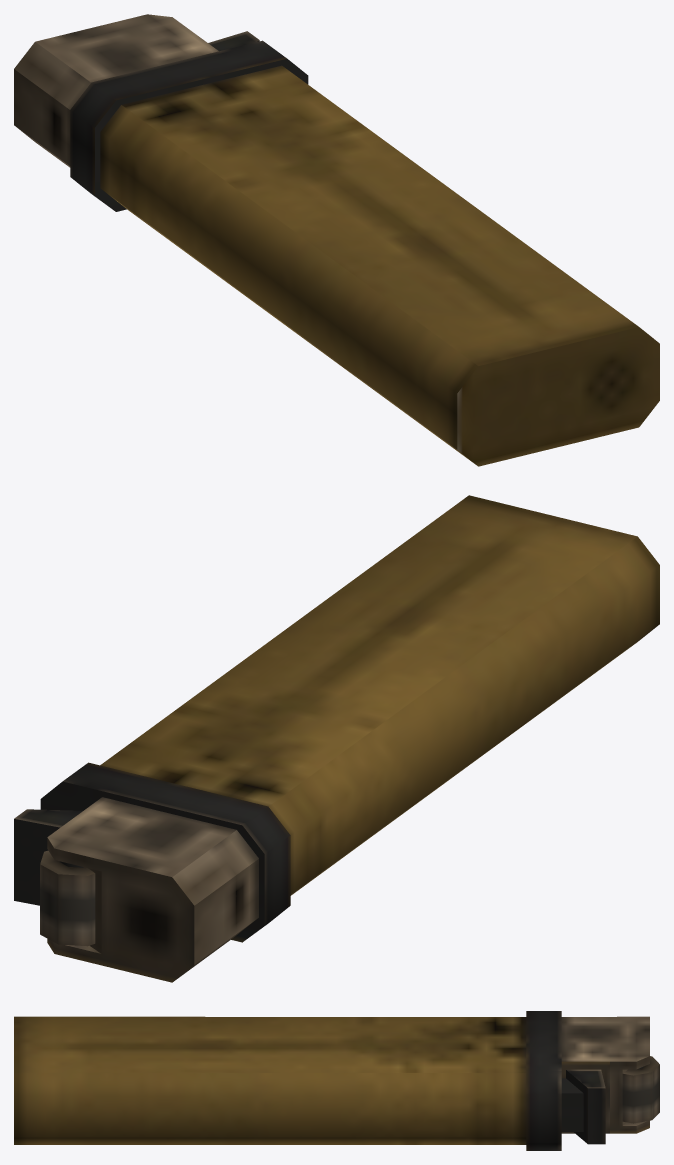
The model's file is lighter_mp_1_2.fbx.
3 renders of one model, top to bottom at view 1: azimuth 30°, elevation 25°; view 2: azimuth 150°, elevation 25°; view 3: azimuth 270°, elevation 25°, orthographic. The views are drawn at different scales.
Parts seen in each view (by area): view 1: lighter_mp_1_2; view 2: lighter_mp_1_2; view 3: lighter_mp_1_2.
Boxes of the visible parts, <box> form: lighter_mp_1_2: <box>14,14,659,466</box>; lighter_mp_1_2: <box>14,495,659,982</box>; lighter_mp_1_2: <box>14,1011,659,1150</box>.
Bounding box in the file's own units: 0.04 × 0.02 × 0.1463.
Materials: 1 (1 with a texture image).
